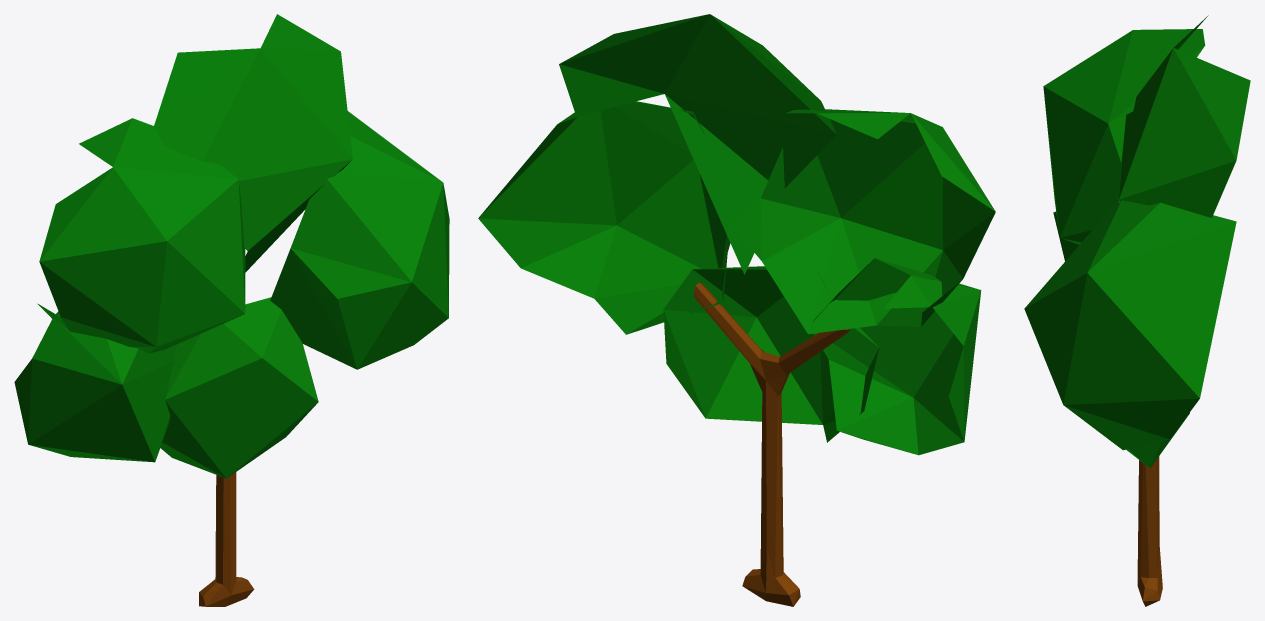
Rendered from Tree02_Optimized.fbx.
3 renders of one model, left to right at view 1: azimuth 30°, elevation 25°; view 2: azimuth 150°, elevation 25°; view 3: azimuth 270°, elevation 25°, orthographic. The views are drawn at different scales.
Parts seen in each view (by area): view 1: TreeLeaves, TreeBranch; view 2: TreeLeaves, TreeBranch; view 3: TreeLeaves, TreeBranch.
Part boxes in pixels (x1=…): TreeLeaves: x1=14, y1=14, x2=449, y2=478; TreeBranch: x1=199, y1=472, x2=254, y2=606; TreeLeaves: x1=478, y1=14, x2=995, y2=455; TreeBranch: x1=693, y1=282, x2=850, y2=606; TreeLeaves: x1=1024, y1=15, x2=1250, y2=467; TreeBranch: x1=1137, y1=456, x2=1162, y2=606.
Size of the model in its own units: 1062 by 1226 by 437.
